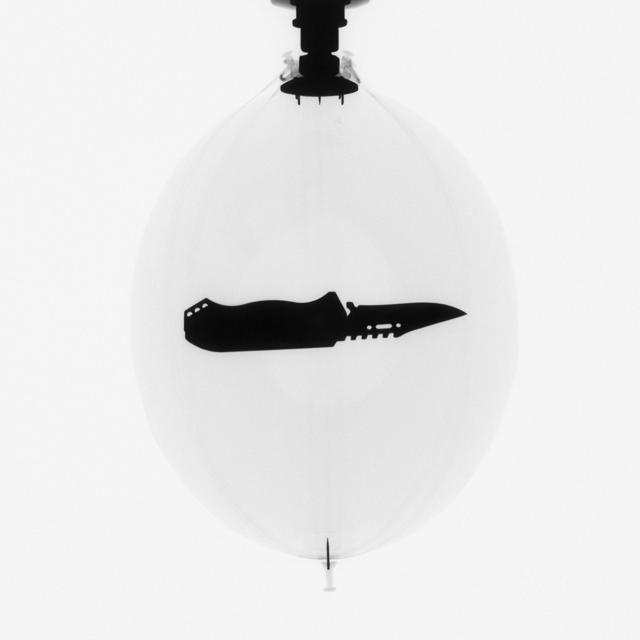knife: (173, 280, 471, 353)
